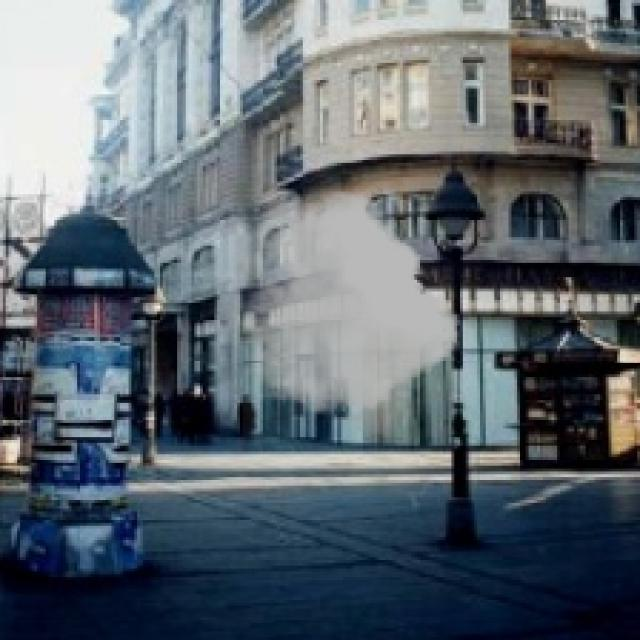smoke: (243, 186, 460, 443)
